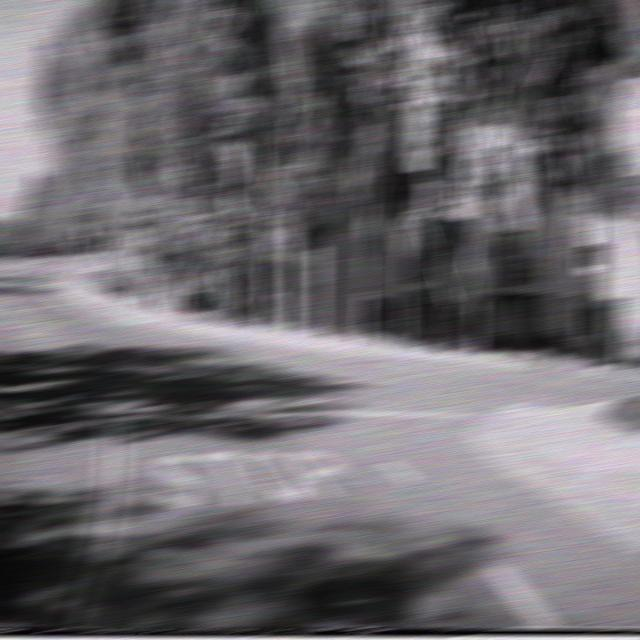pedestrianCrossing: (126, 226, 149, 253)
